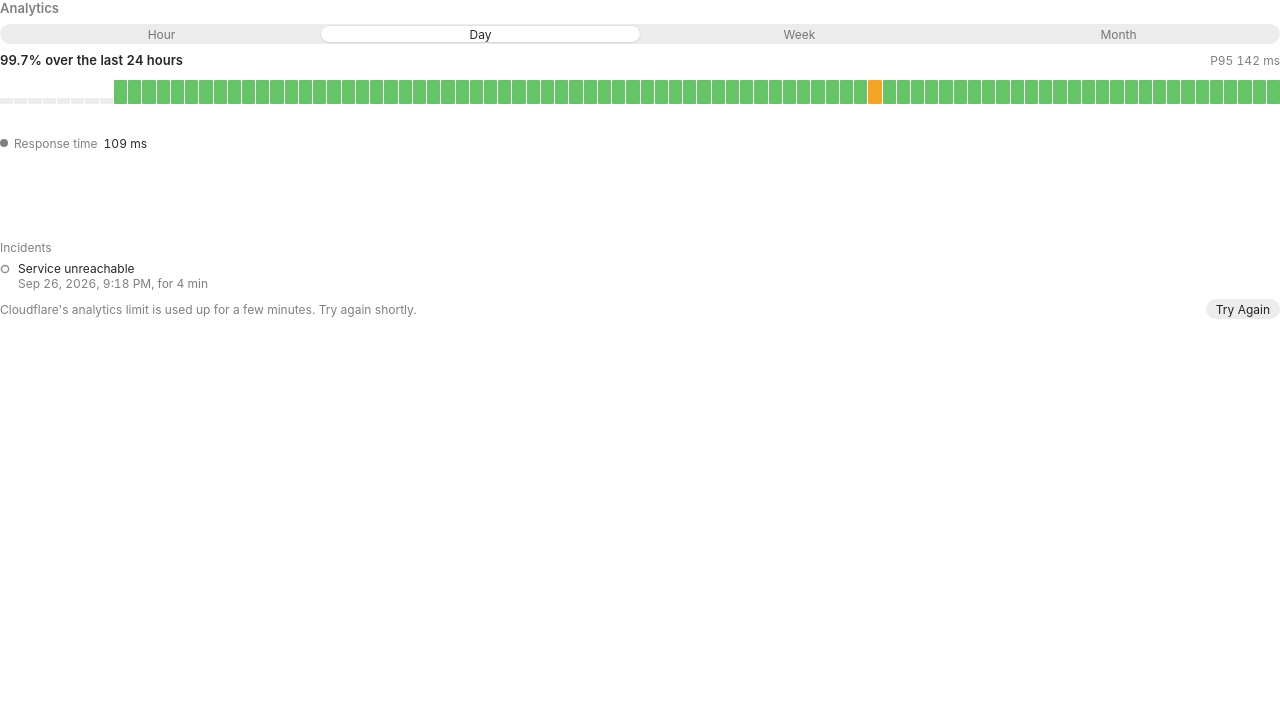
Scenario: RouteAnalytics › offers Try Again when Cloudflare can't answer, busy until it has
This screenshot has width=1280, height=716.
Expected: the text "Cloudflare's analytics limit is used up for a few minutes. Try again shortly." is shown, x1=0 y1=302 x2=417 y2=316
Click the button "Try Again": (1243,309) x1=1206 y1=299 x2=1279 y2=319
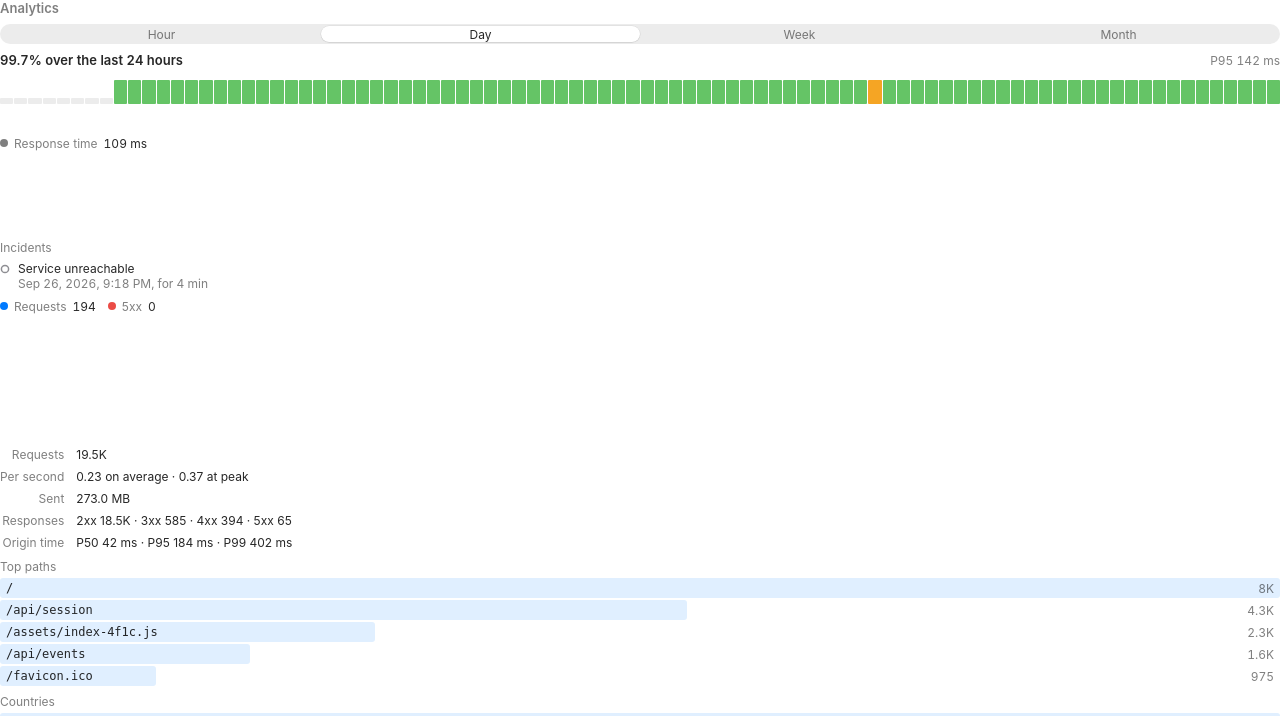
Result: the text "Try again" is gone
Result: the text "/api/session" is shown at x1=6 y1=603 x2=93 y2=617
